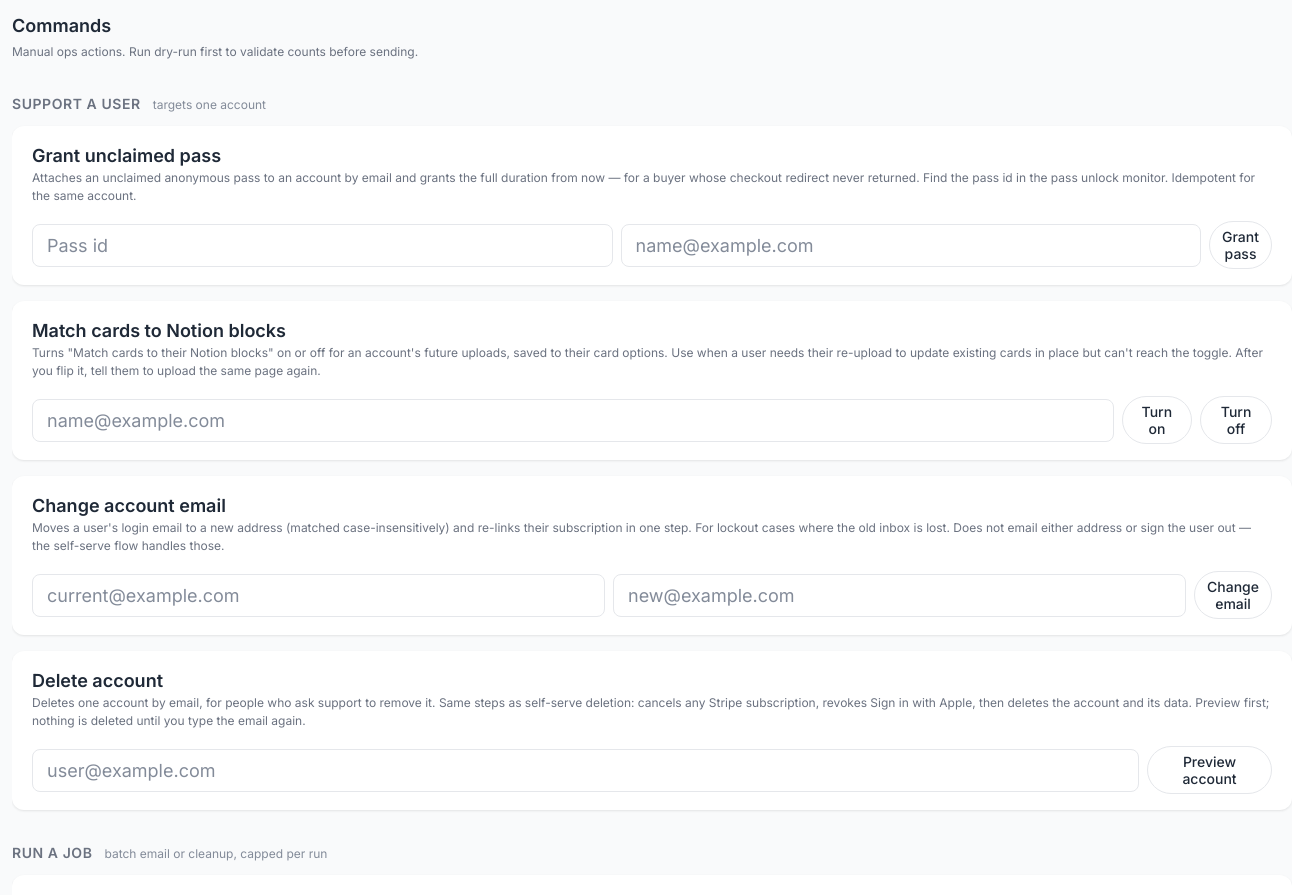
Test case: CommandsTab — match cards to Notion blocks › turns the option off and says the user’s own setting applies again
In the field named "Match cards account email": (573, 420) [32,398,1114,442], type "learner@example.com"
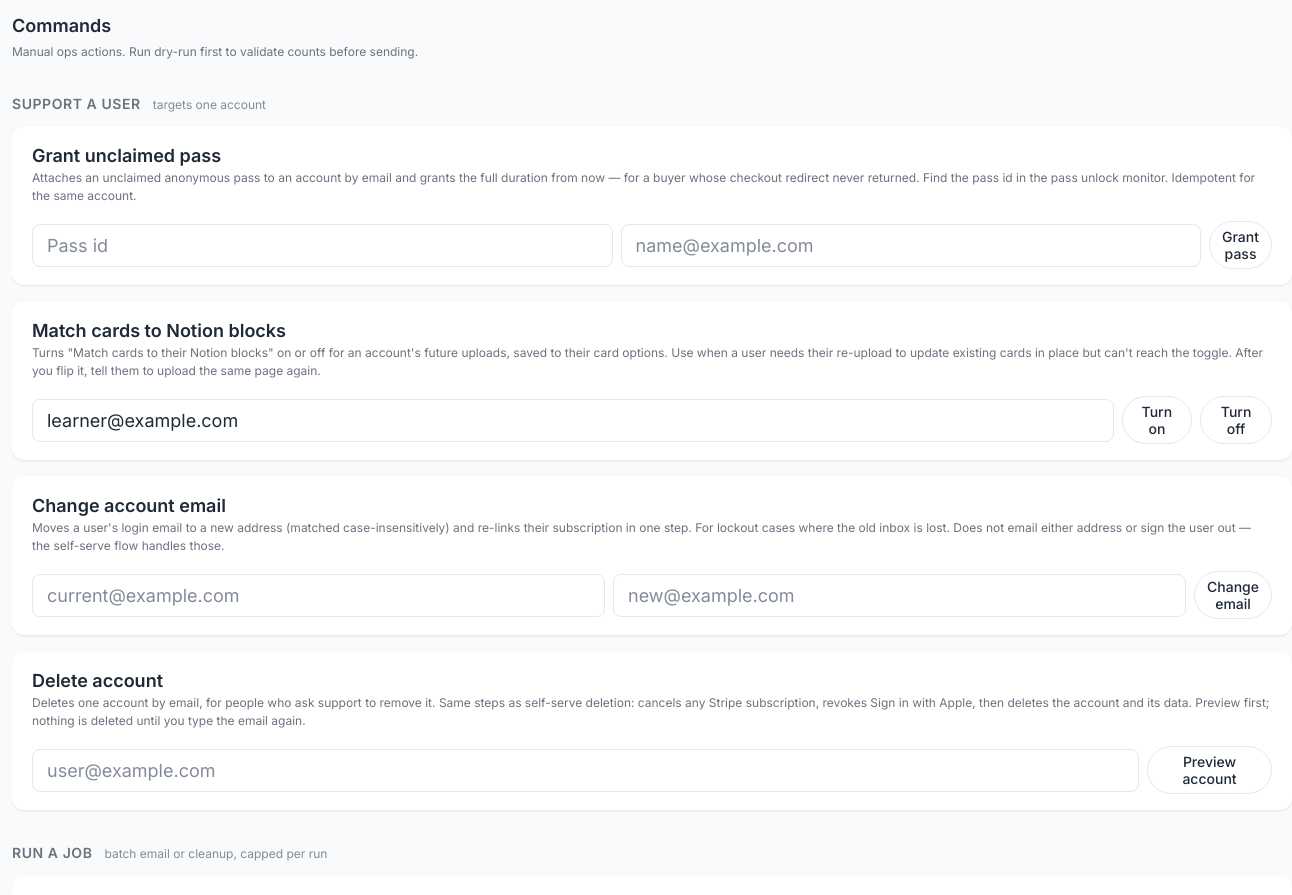
Click the button "Turn off": (1236, 420) [1200,396,1272,444]
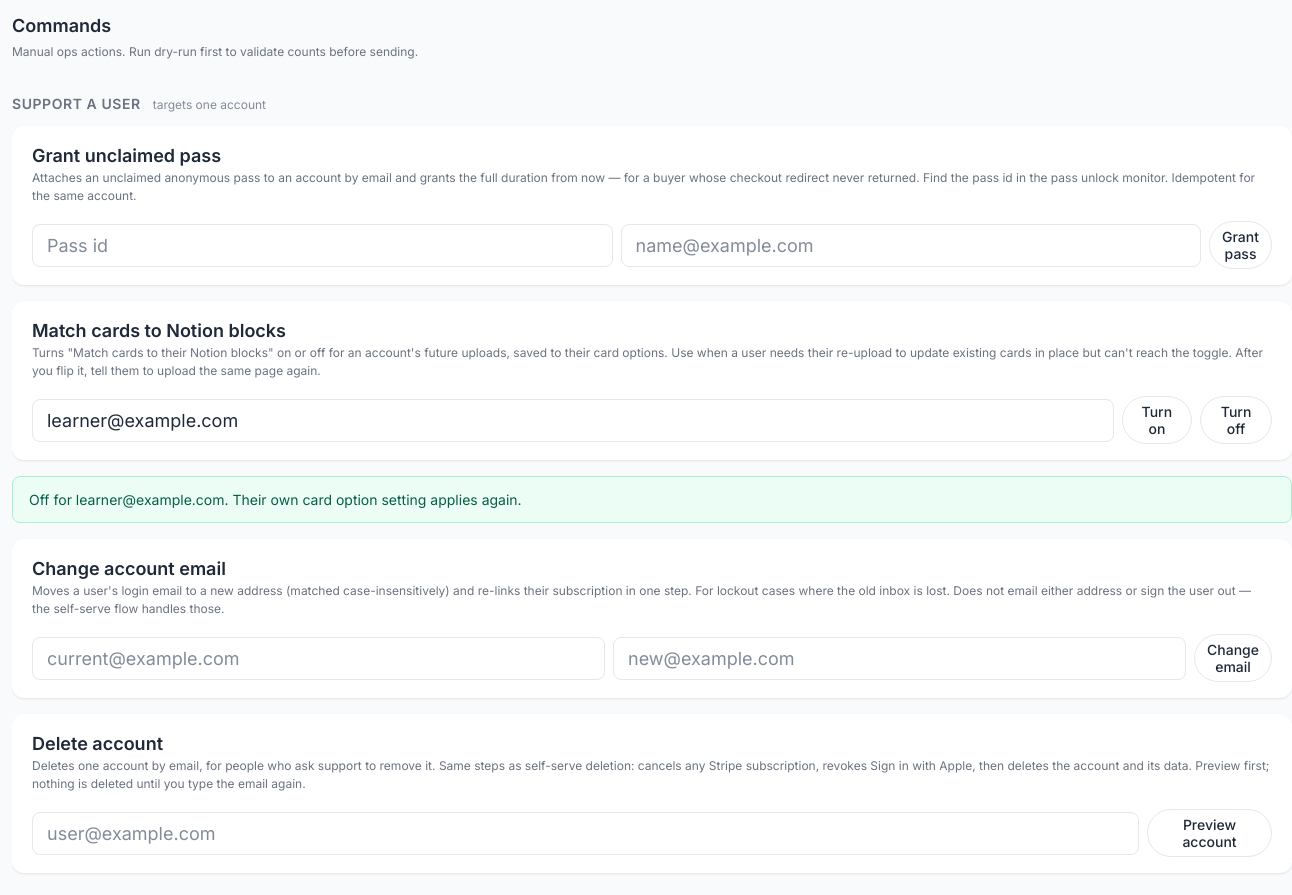
Now the text "Off for learner@example.com. Their own card option setting applies again." is shown, box [12,476,1291,523]
